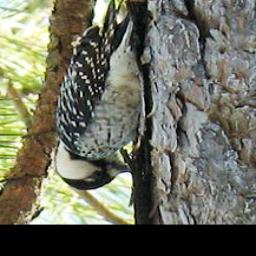Woodpecker: (54, 0, 147, 192)
